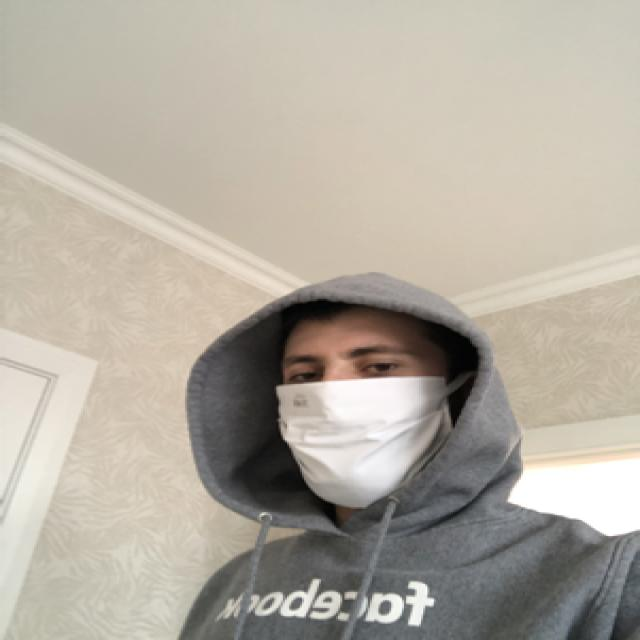with_mask: (276, 332, 448, 510)
